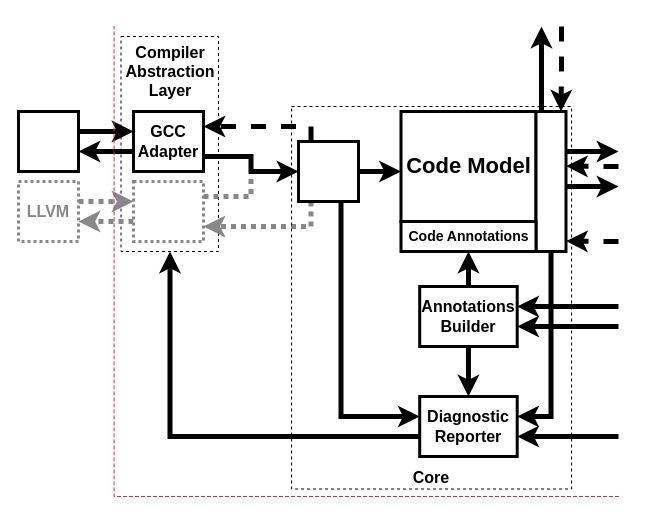
The diagram is 646 pixels wide and 514 high, and some of its shapes have lost their labels. The shapes that lost their labels are listed below. From the top down, each one's centre as x and y in pixels, then its label:
At (x=48, y=141): "GCC".
At (x=328, y=171): "Model Builder".
At (x=550, y=181): "Query System".
At (x=168, y=211): "LLVM Adapter".
